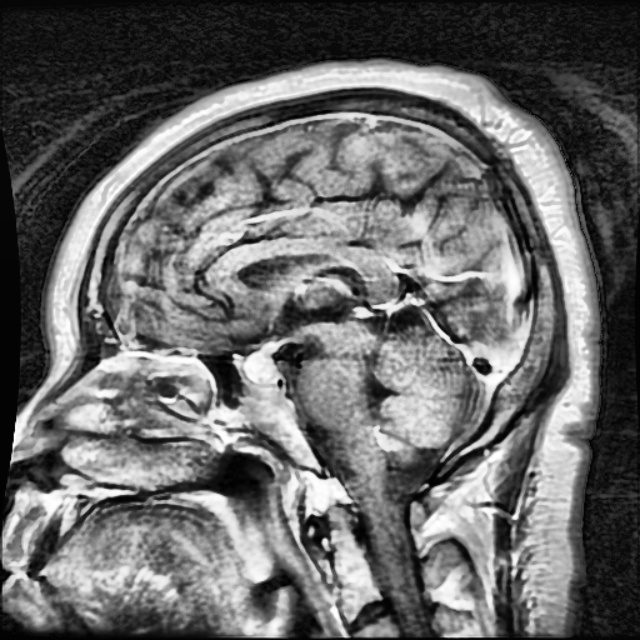Pituitary: (244, 350, 282, 384)
